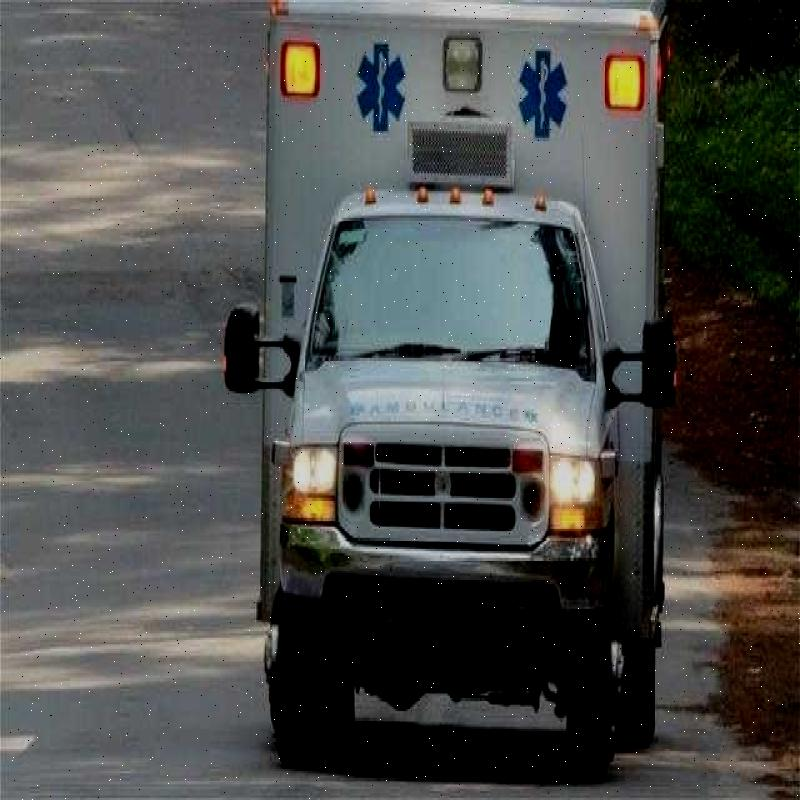AmbulanceSiren: (583, 22, 650, 124), (435, 28, 501, 124), (266, 19, 321, 124)
